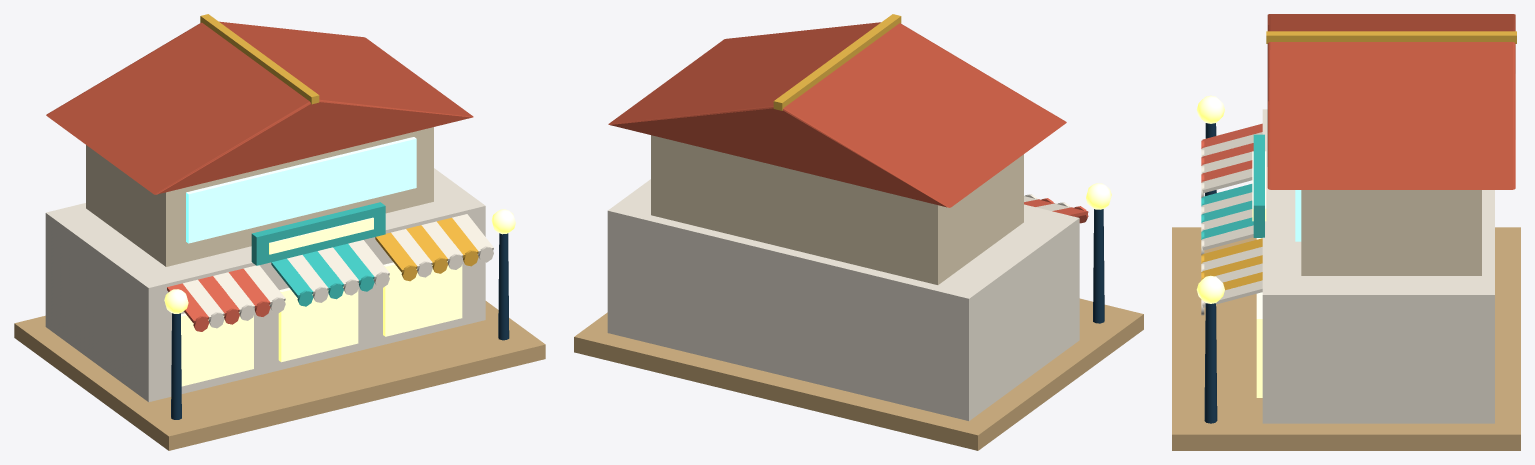
Rendered from mini-shopping.glb.
The picture shows the model from 3 angles, left to right: view 1: azimuth 30°, elevation 25°; view 2: azimuth 150°, elevation 25°; view 3: azimuth 270°, elevation 25°; orthographic projection. The views are drawn at different scales.
Parts seen in each view (by area): view 1: Mesh_terracotta, Mesh_warmWhite, Mesh_sandStone, Mesh_glowWarm, Mesh_glowCyan, Mesh_cream, Mesh_turquoise, Mesh_mango, Mesh_coral, Mesh_navy, Mesh_gold; view 2: Mesh_warmWhite, Mesh_terracotta, Mesh_cream, Mesh_sandStone, Mesh_gold, Mesh_navy; view 3: Mesh_warmWhite, Mesh_terracotta, Mesh_sandStone, Mesh_cream, Mesh_gold, Mesh_turquoise, Mesh_glowWarm, Mesh_navy, Mesh_coral, Mesh_mango, Mesh_glowCyan.
Boxes of the visible parts, x1,y1,x2,y2 form: Mesh_terracotta: [46, 21, 473, 194]; Mesh_warmWhite: [45, 168, 493, 402]; Mesh_sandStone: [14, 301, 545, 450]; Mesh_glowWarm: [164, 209, 515, 386]; Mesh_glowCyan: [186, 137, 416, 243]; Mesh_cream: [86, 127, 433, 266]; Mesh_turquoise: [251, 202, 385, 306]; Mesh_mango: [375, 217, 478, 281]; Mesh_coral: [167, 268, 270, 331]; Mesh_navy: [171, 233, 509, 419]; Mesh_gold: [200, 14, 319, 104]; Mesh_warmWhite: [607, 179, 1079, 420]; Mesh_terracotta: [608, 22, 1066, 207]; Mesh_cream: [651, 135, 1023, 284]; Mesh_sandStone: [574, 298, 1143, 450]; Mesh_gold: [773, 14, 901, 110]; Mesh_navy: [1093, 209, 1104, 323]; Mesh_warmWhite: [1201, 109, 1494, 423]; Mesh_terracotta: [1267, 14, 1515, 189]; Mesh_sandStone: [1172, 227, 1520, 450]; Mesh_cream: [1301, 190, 1481, 275]; Mesh_gold: [1266, 31, 1516, 43]; Mesh_turquoise: [1201, 134, 1264, 239]; Mesh_glowWarm: [1196, 95, 1266, 397]; Mesh_navy: [1204, 123, 1217, 423]; Mesh_coral: [1201, 123, 1262, 182]; Mesh_mango: [1201, 238, 1262, 290]; Mesh_glowCyan: [1295, 190, 1301, 241].
Bounding box in the file's own units: 7.6 × 5.36 × 5.4.
